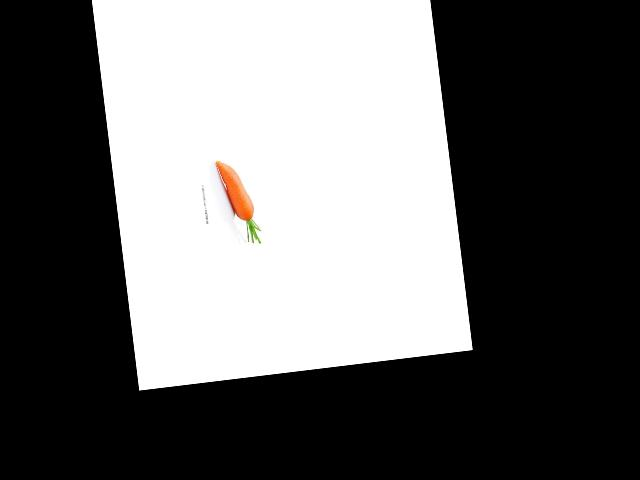carrot: (213, 152, 258, 232)
